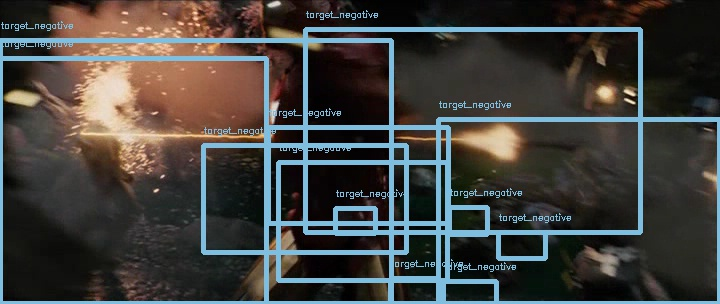person: (261, 1, 329, 54), (260, 1, 328, 54), (262, 1, 330, 54), (261, 0, 329, 53), (261, 2, 329, 55)
target_negative: (505, 62, 676, 258), (596, 31, 680, 303), (124, 232, 422, 302), (346, 284, 555, 300), (102, 135, 464, 136), (281, 201, 284, 241)
